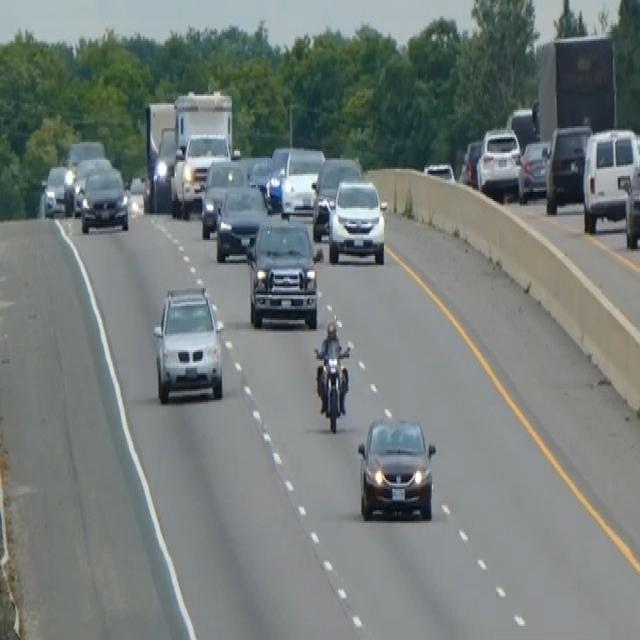car: (355, 409, 437, 523), (152, 282, 225, 403), (581, 124, 639, 233), (327, 176, 387, 265), (174, 130, 231, 215), (310, 153, 362, 240), (544, 121, 592, 213), (214, 182, 268, 262), (199, 156, 246, 238), (475, 124, 522, 201), (80, 163, 129, 233), (279, 146, 325, 217), (71, 155, 111, 215), (517, 137, 551, 203), (622, 146, 639, 249), (265, 144, 290, 210), (41, 162, 70, 217), (459, 137, 483, 187), (248, 155, 273, 201), (422, 158, 455, 183)
jeep: (243, 219, 321, 329)
motorcycle: (312, 340, 352, 432)
